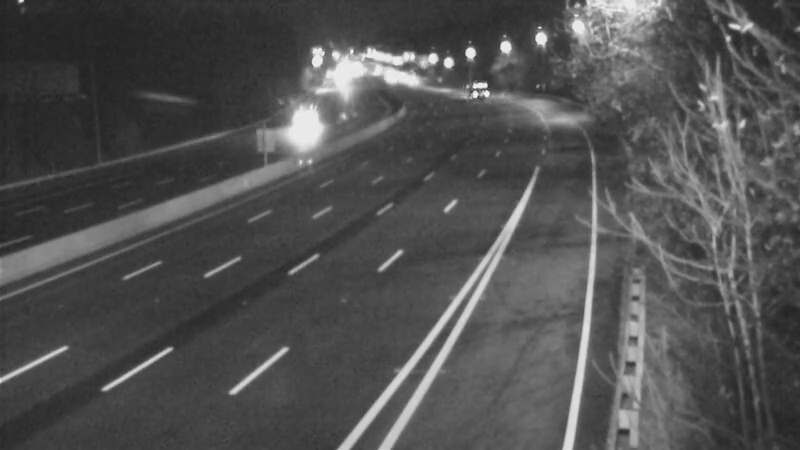vehicle: (453, 66, 503, 116), (278, 99, 328, 149)
